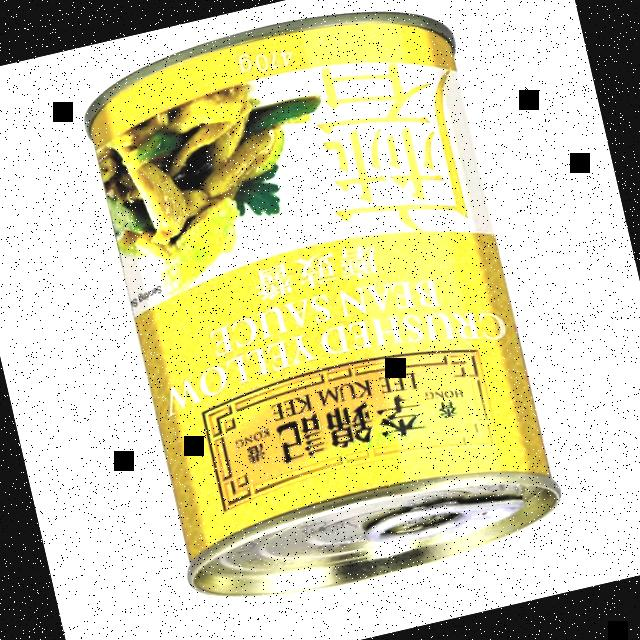can: (68, 0, 571, 619)
